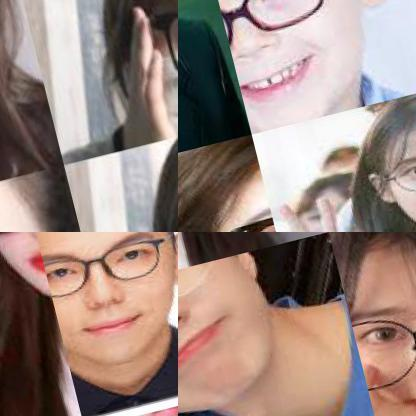Glasses: (131, 0, 177, 118)
glasses: (41, 232, 177, 310), (351, 278, 415, 399), (178, 258, 243, 373), (215, 0, 352, 52), (375, 143, 415, 212), (222, 216, 287, 231)
